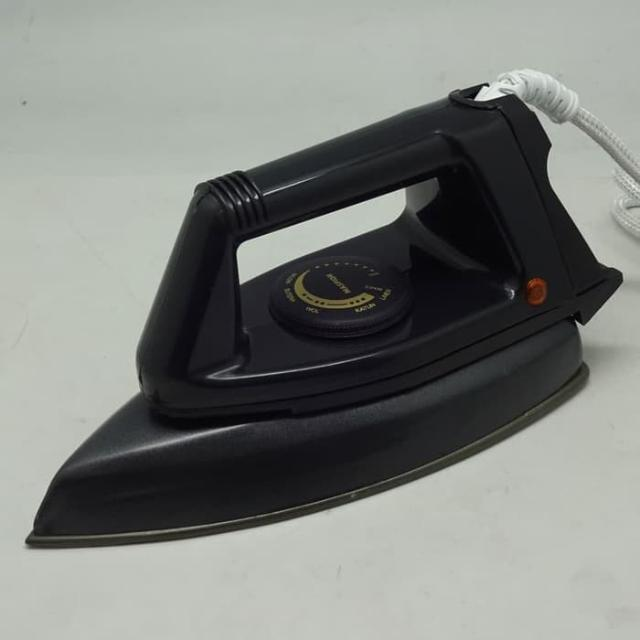Clothes-Iron: (184, 146, 574, 554)
